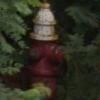Hydrant: (19, 2, 70, 97)
